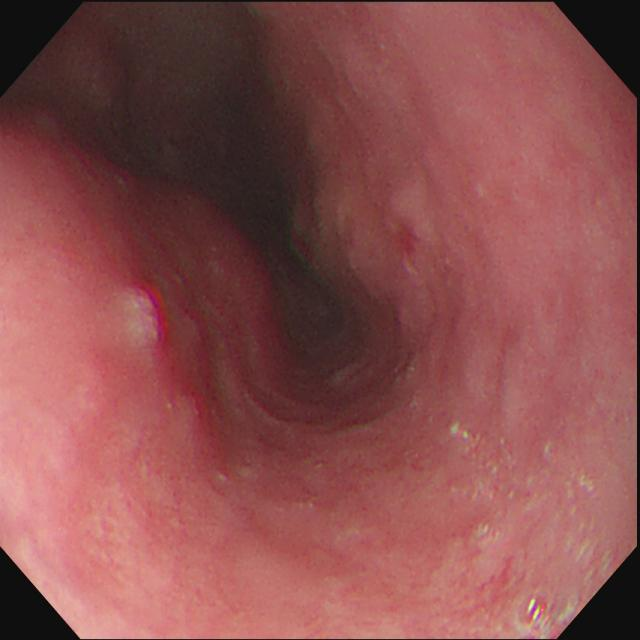A: (284, 174, 451, 295)
C: (392, 223, 419, 259)
E: (206, 161, 370, 373)
J: (114, 270, 174, 358)
T: (515, 593, 560, 640)
